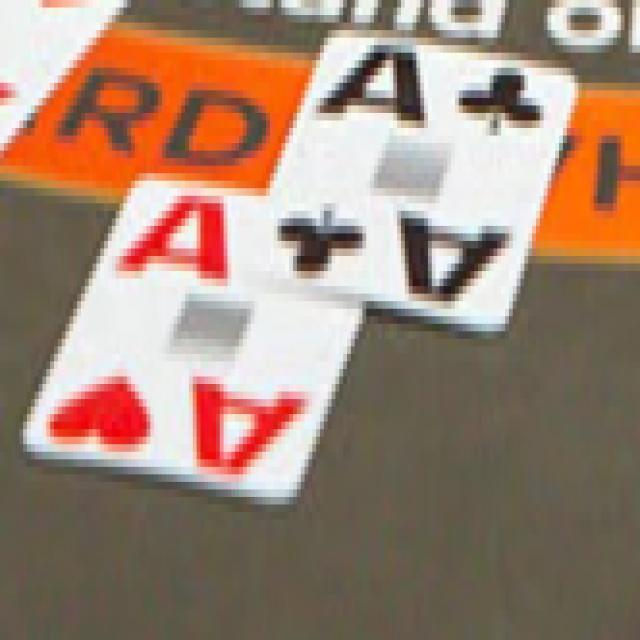Card-A: (22, 178, 364, 501), (249, 32, 577, 328)
